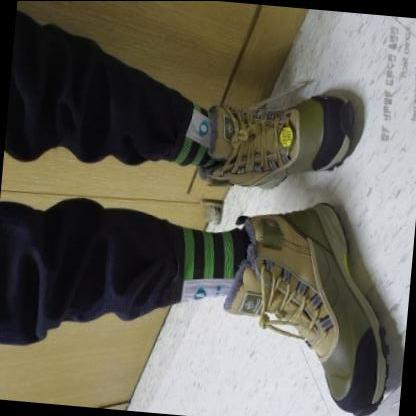safety-shoe: (214, 197, 404, 415), (200, 68, 364, 200)
